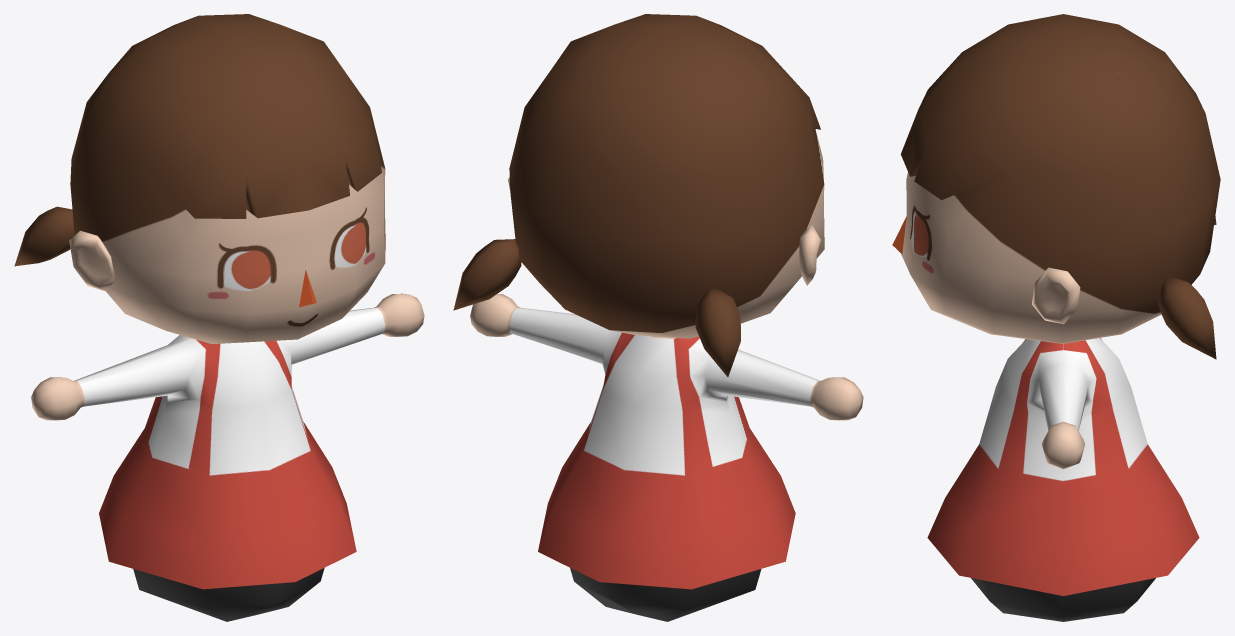
File: girl.fbx
The picture shows the model from 3 angles, left to right: view 1: azimuth 30°, elevation 25°; view 2: azimuth 150°, elevation 25°; view 3: azimuth 270°, elevation 25°; orthographic projection.
Parts seen in each view (by area): view 1: girl; view 2: girl; view 3: girl.
Part boxes in pixels (left/top/right/bottom): girl: left=14, top=14, right=424, bottom=621; girl: left=453, top=14, right=863, bottom=621; girl: left=892, top=14, right=1220, bottom=621.
Size of the model in its own units: 19.71 by 27.97 by 14.36.
